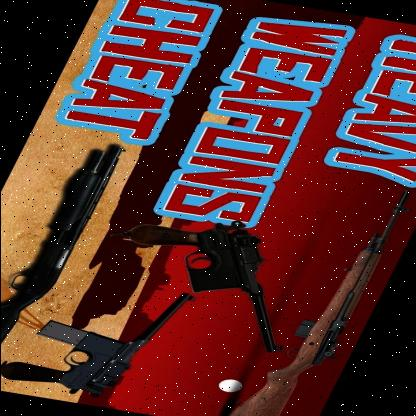rifle: (218, 178, 416, 416), (0, 134, 134, 386)
